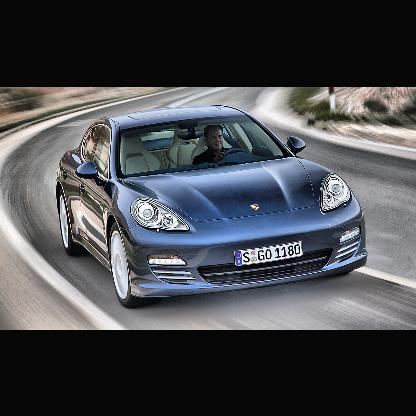Porsche Panamera Sedan 2012: (56, 106, 368, 309)
